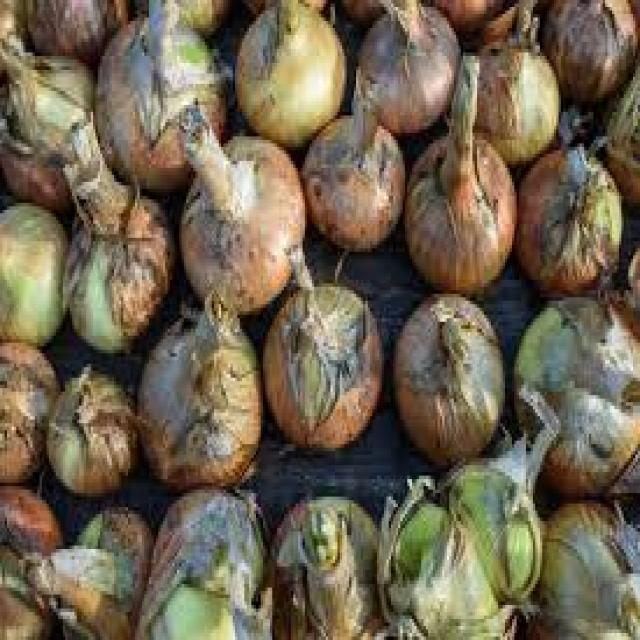Onion: (375, 384, 559, 637), (510, 294, 640, 495), (66, 122, 175, 355), (260, 245, 383, 451), (180, 110, 304, 313), (408, 60, 514, 292), (142, 292, 264, 490), (98, 3, 226, 191), (137, 489, 272, 640), (7, 504, 152, 640), (394, 293, 504, 465), (270, 495, 388, 640), (524, 497, 640, 640), (0, 34, 93, 210), (238, 4, 346, 148), (517, 142, 621, 291), (470, 0, 558, 163), (304, 114, 407, 248), (363, 4, 460, 131), (44, 367, 136, 495), (0, 204, 70, 345), (0, 484, 61, 640), (545, 0, 640, 96), (0, 342, 55, 485), (24, 0, 122, 56), (608, 70, 640, 214), (143, 0, 225, 31), (433, 0, 503, 34), (242, 0, 327, 18), (338, 2, 417, 19)
